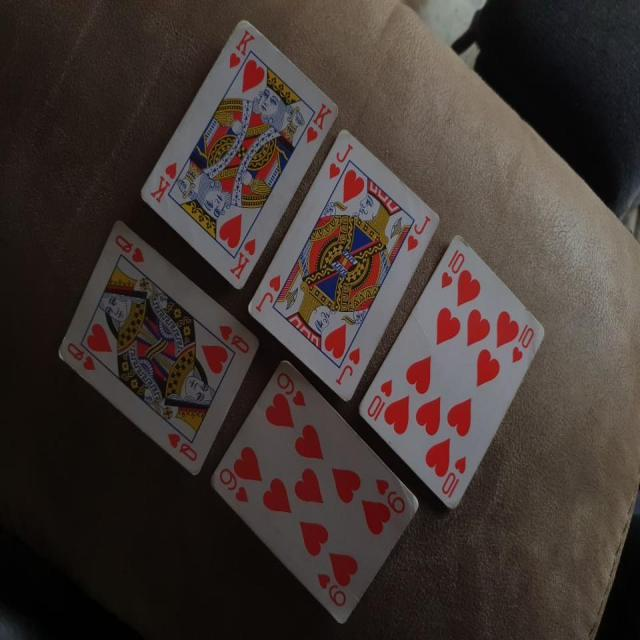10 of hearts: (352, 224, 549, 518)
9 of hearts: (190, 352, 428, 622)
jack of hearts: (240, 122, 437, 406)
king of hearts: (131, 11, 342, 296)
queen of hearts: (50, 215, 260, 485)
